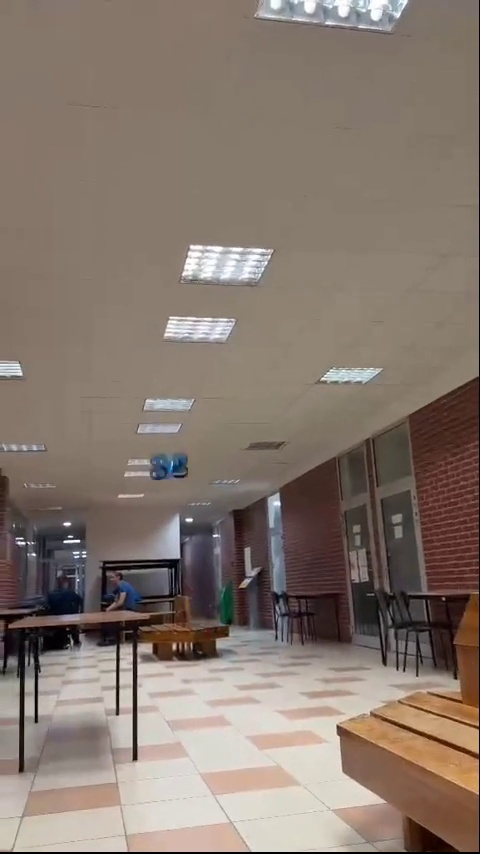drone: (146, 453, 189, 484)
no vest: (106, 573, 144, 610), (49, 575, 85, 613)
